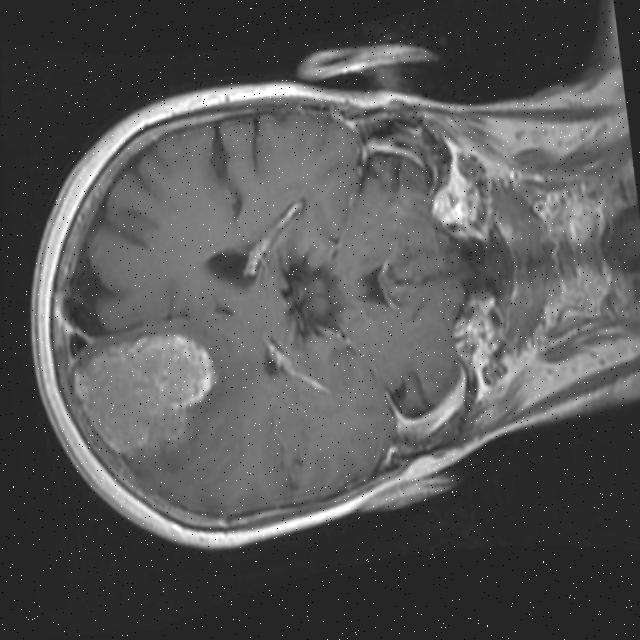Meningioma: (66, 318, 227, 465)
